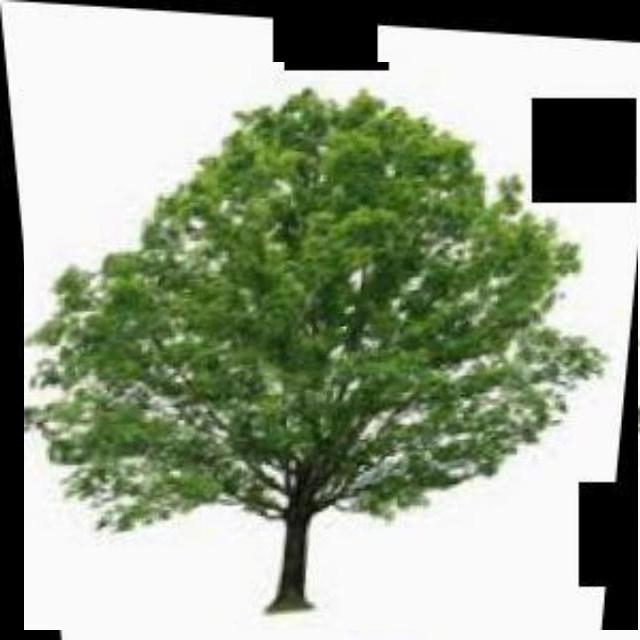tree: (24, 62, 638, 630)
